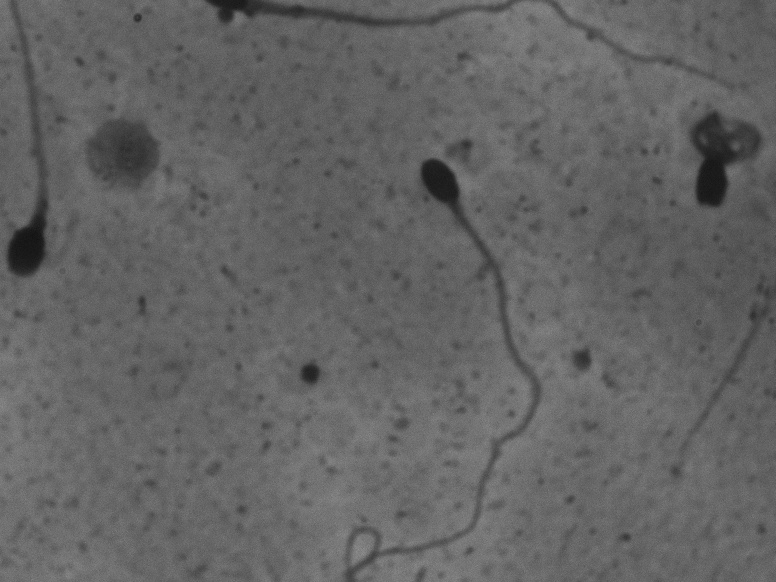Abnormal: (373, 132, 569, 565), (666, 93, 769, 230)
